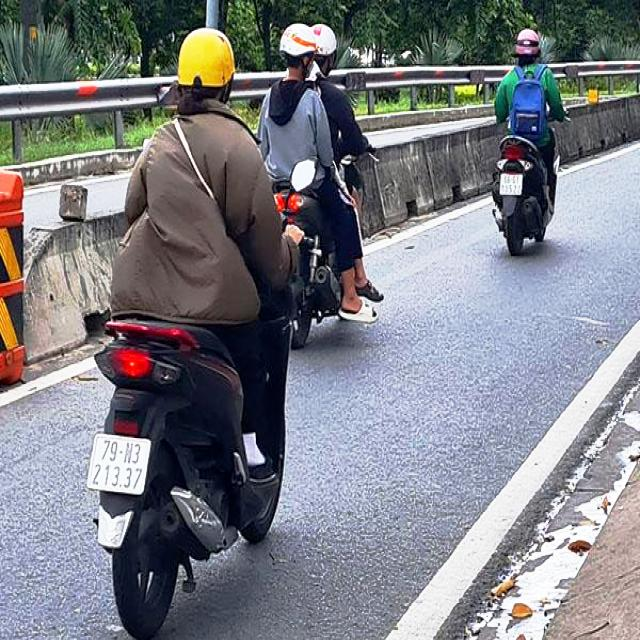license_plate: (88, 437, 151, 496)
